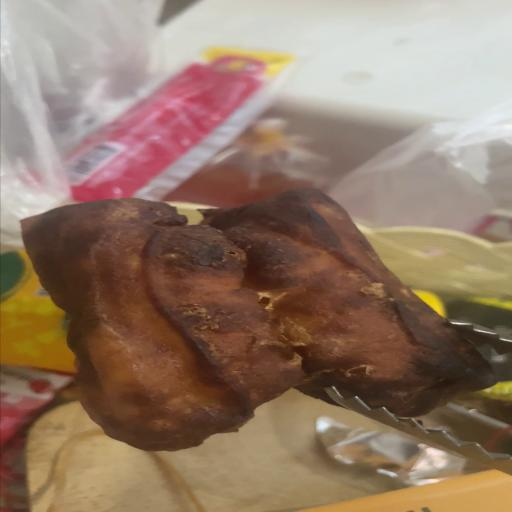street_burnt_defect: (15, 190, 495, 450)
